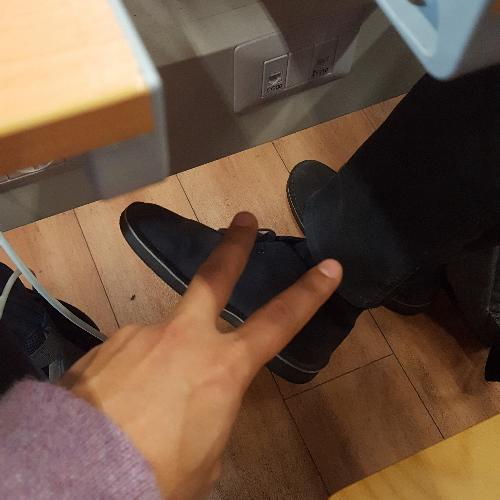scissors: (60, 207, 351, 500)
